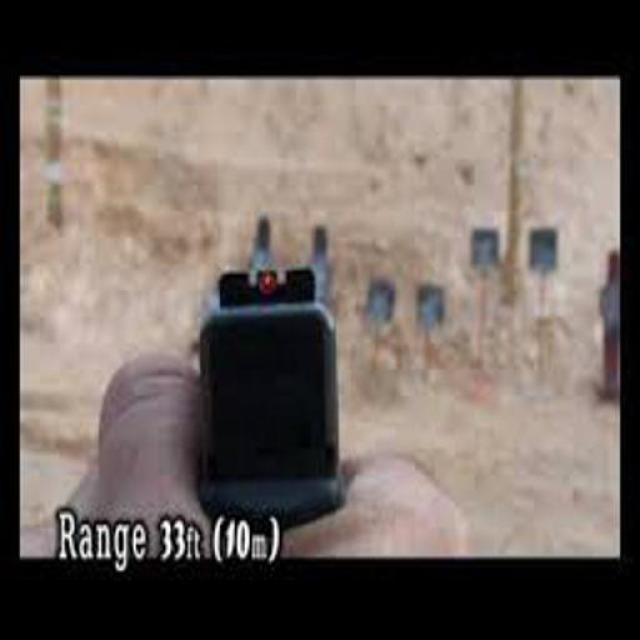pistol: (185, 254, 347, 538)
